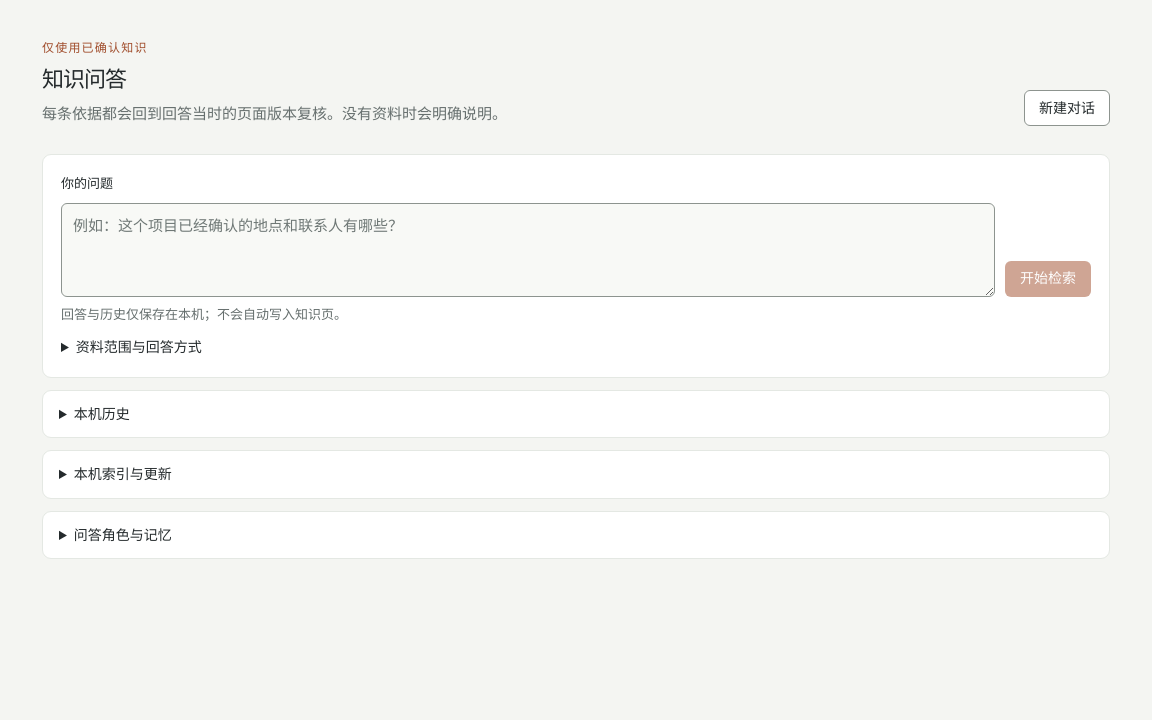
Scenario: creates a first conversation on the server, adopts its ID, then continues it
In the text box labelled "你的问题": (528, 250) [61,203,995,297], type "首次问题"
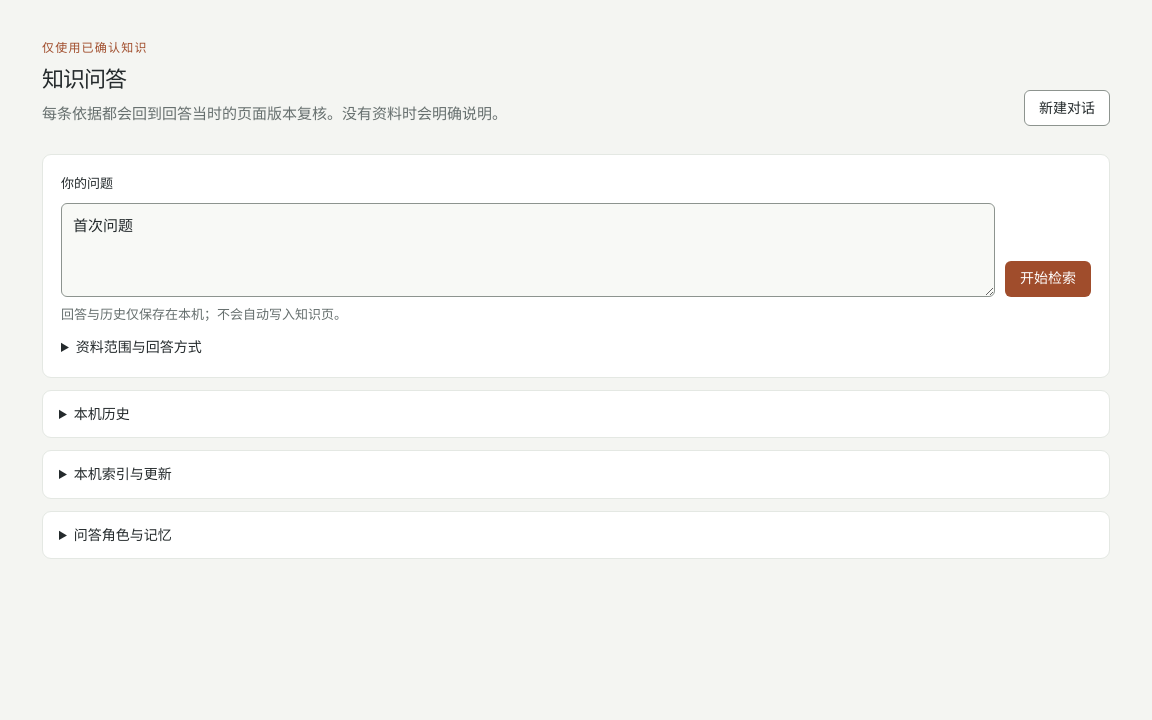
Click the button "开始检索": (1048, 279) [1005,261,1091,297]
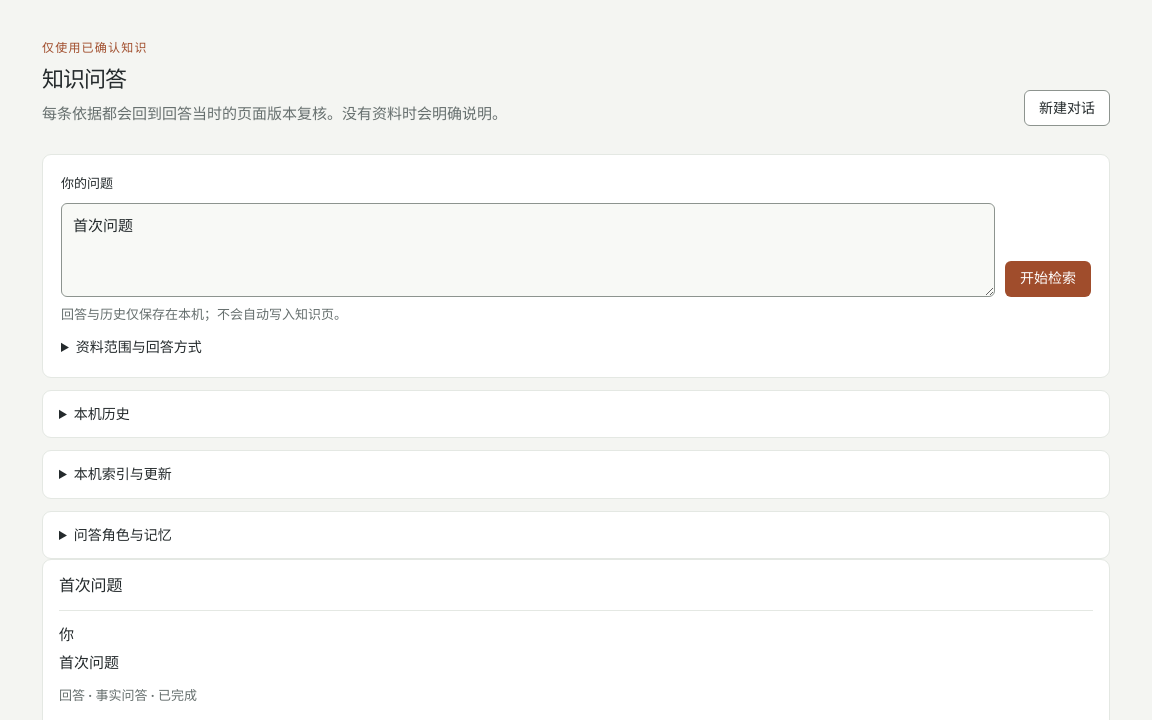
Replace the text in the text box labelled "你的问题" with "接着追问": (528, 250) [61,203,995,297]
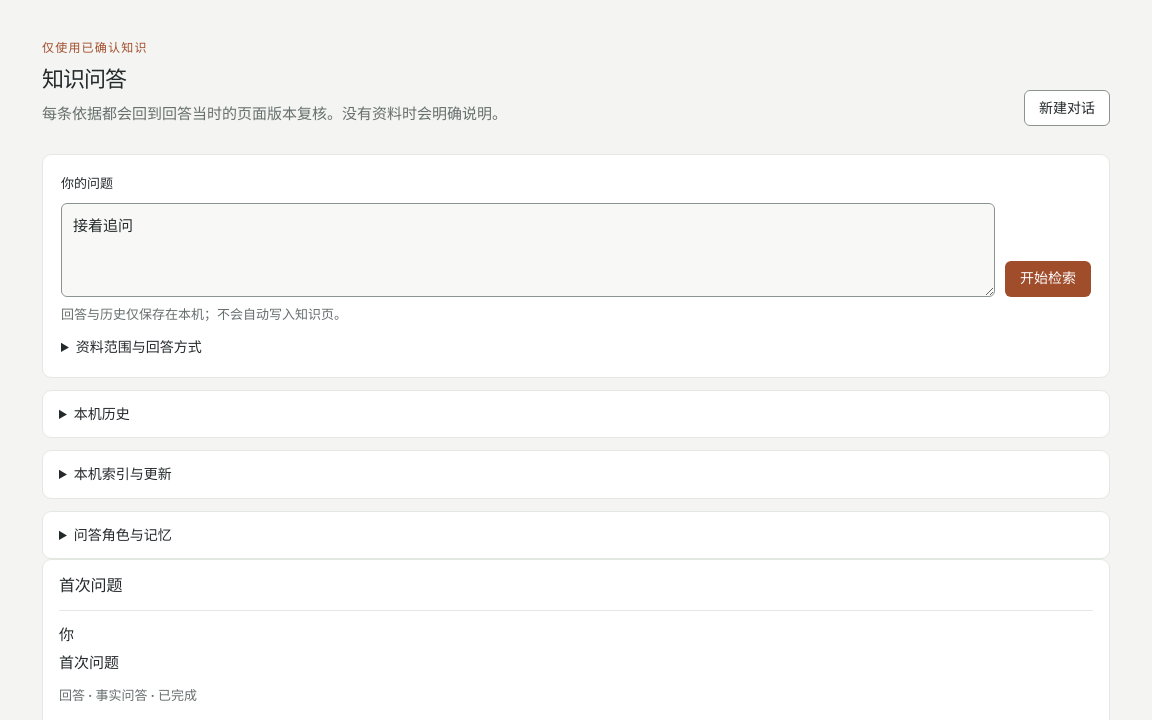
Click the button "开始检索": (1048, 279) [1005,261,1091,297]
(page scrolled)
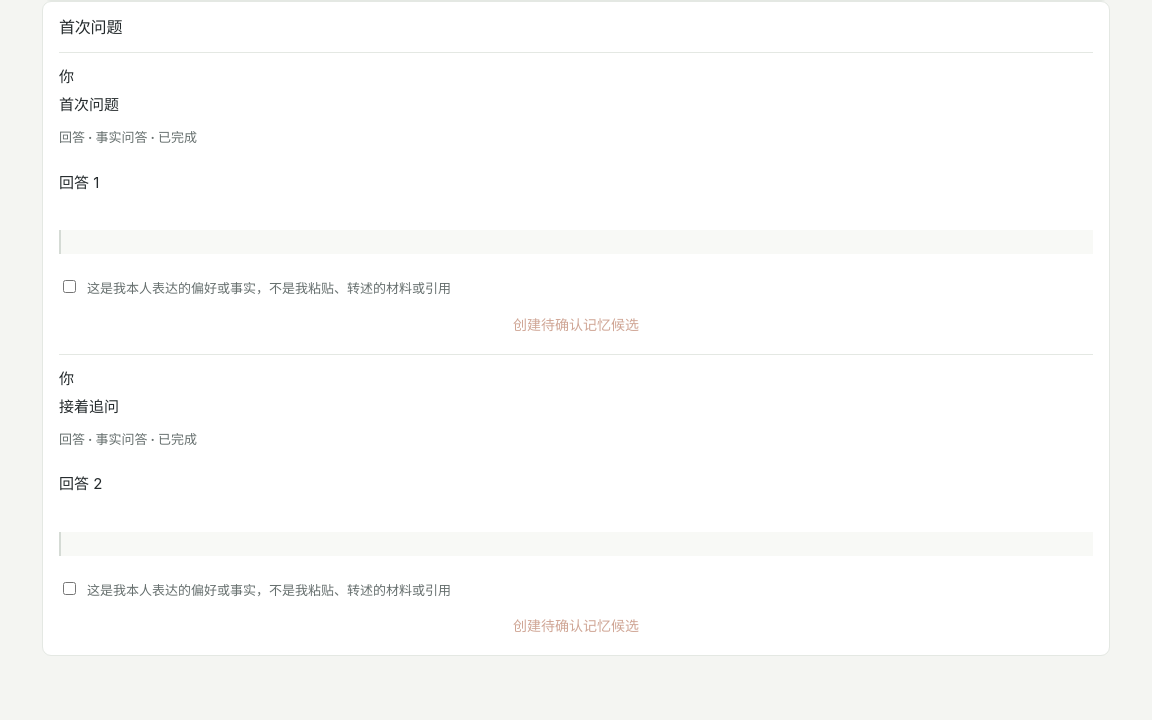
Expected: the text "回答 2" is shown, [59,474,102,493]
